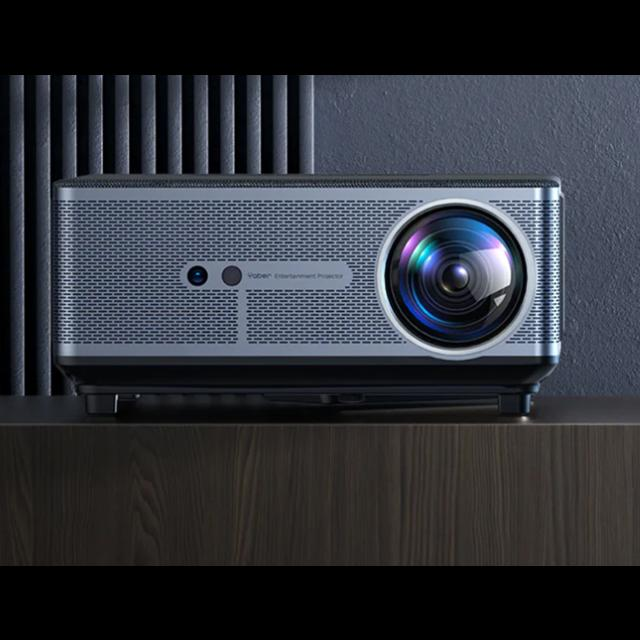Projector: (49, 174, 566, 418)
